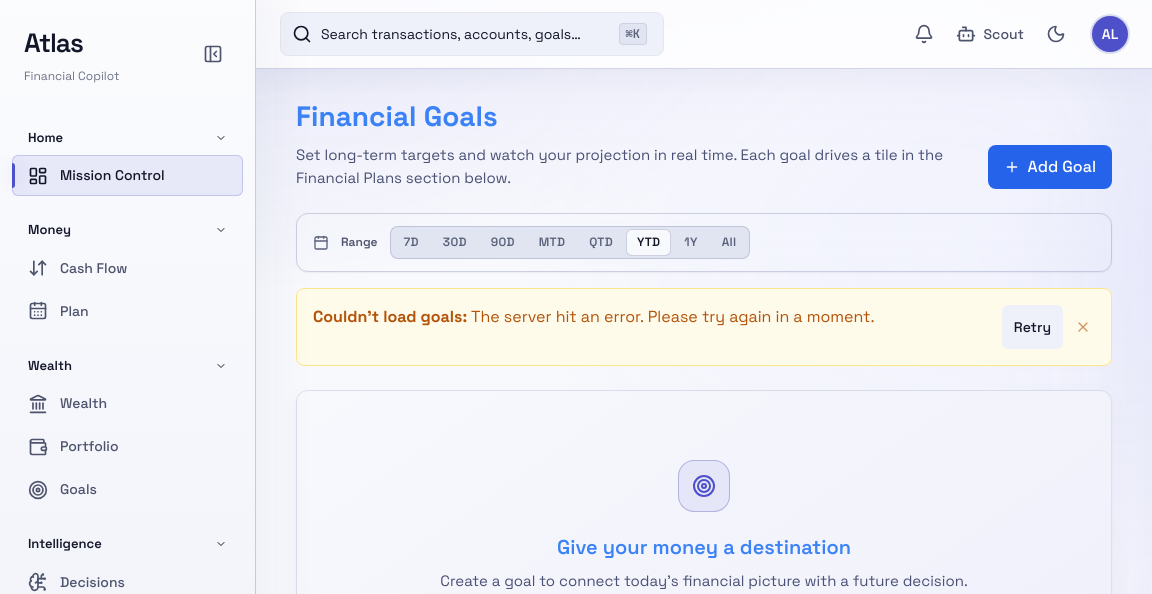
Test: GoalsPage — Phase F2 #2 error isolation › clears top-of-page banner and renders goals when local Retry recovers
The width and height of the screenshot is (1152, 594).
Check: the text "Couldn't load goals:" is shown, box [313,306,467,327]
Click the button "Retry" at x=1032, y=327, box [1002,305,1063,349]
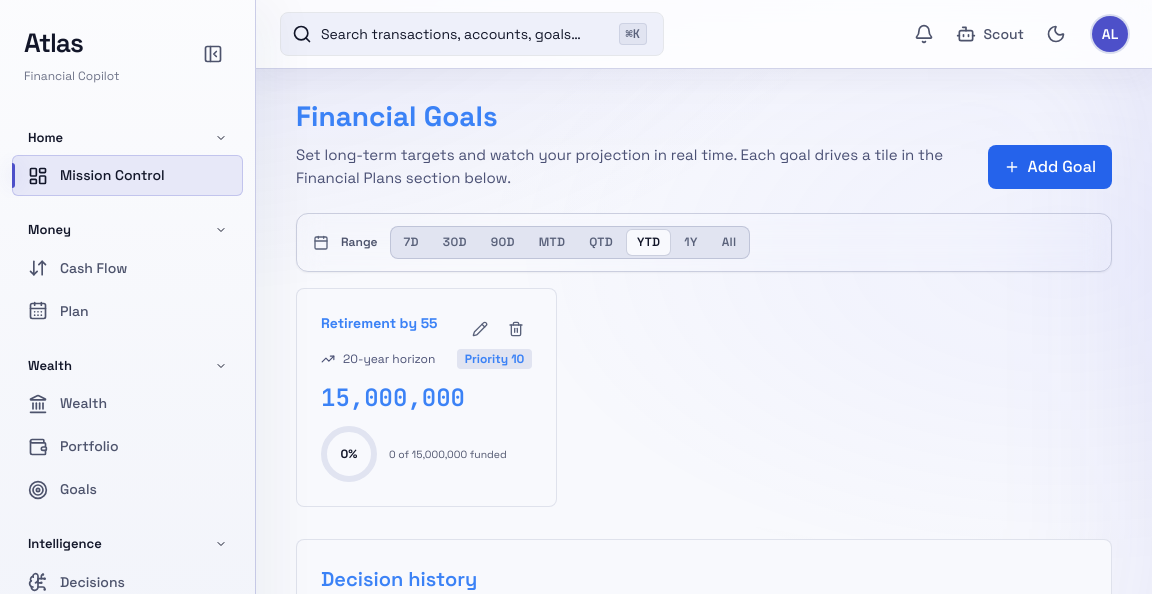
Check: the element with test id "goal-card-1" is shown, box [296,288,557,507]
Check: the text "Couldn't load goals:" is gone
